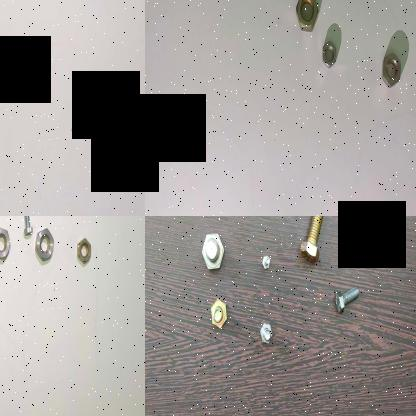Bolts: (198, 222, 228, 280), (297, 216, 327, 267), (332, 278, 361, 316), (203, 291, 230, 331), (259, 313, 278, 348), (19, 216, 33, 238), (260, 250, 272, 270)
NUTS: (34, 220, 57, 268), (73, 228, 94, 275), (380, 50, 402, 86), (294, 0, 318, 32), (320, 36, 336, 70), (0, 223, 10, 265)
